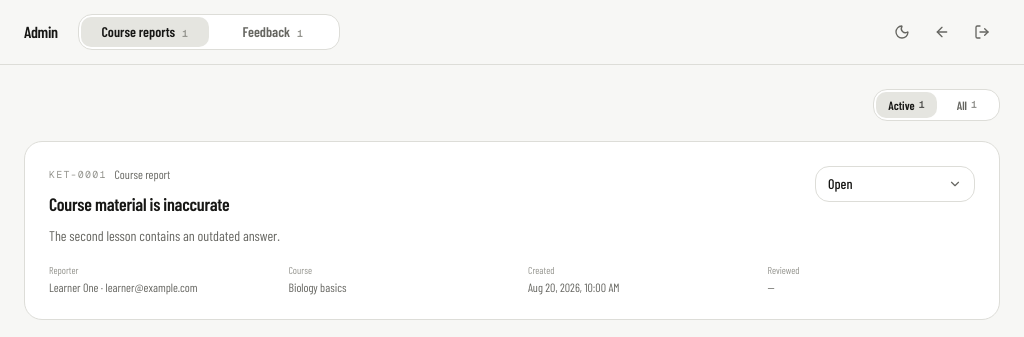
Test: AdminTicketsClient › keeps course reports and feedback in separate queues
Expected: the heading "Course material is inaccurate" is shown, x1=49 y1=193 x2=229 y2=215
Expected: the heading "Please add keyboard shortcuts" is not shown
Click the tab with aria-label "Feedback, 1 submission": (273, 32) x1=209 y1=18 x2=337 y2=46
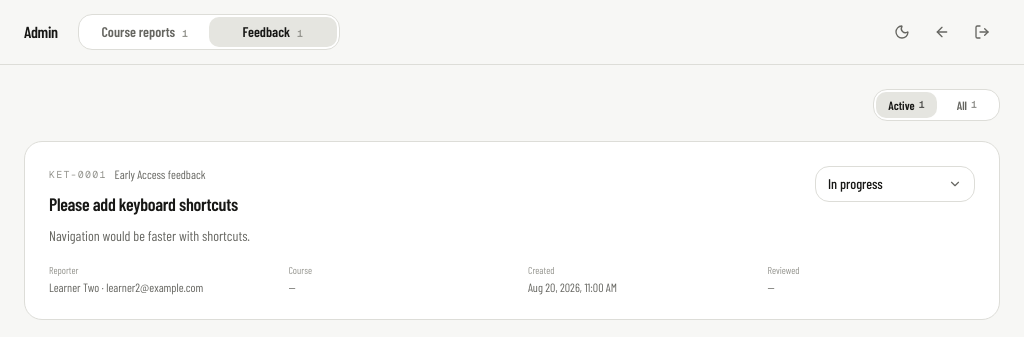
Expected: the heading "Please add keyboard shortcuts" is shown, x1=49 y1=193 x2=238 y2=215
Expected: the heading "Course material is inaccurate" is gone
